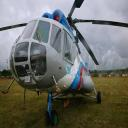helicopter: (3, 4, 105, 124)
